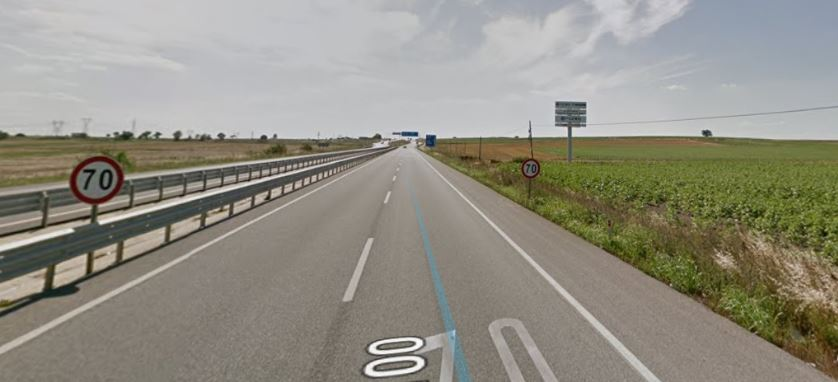70 Km Hiz Siniri: (66, 152, 126, 205), (519, 155, 540, 179)
